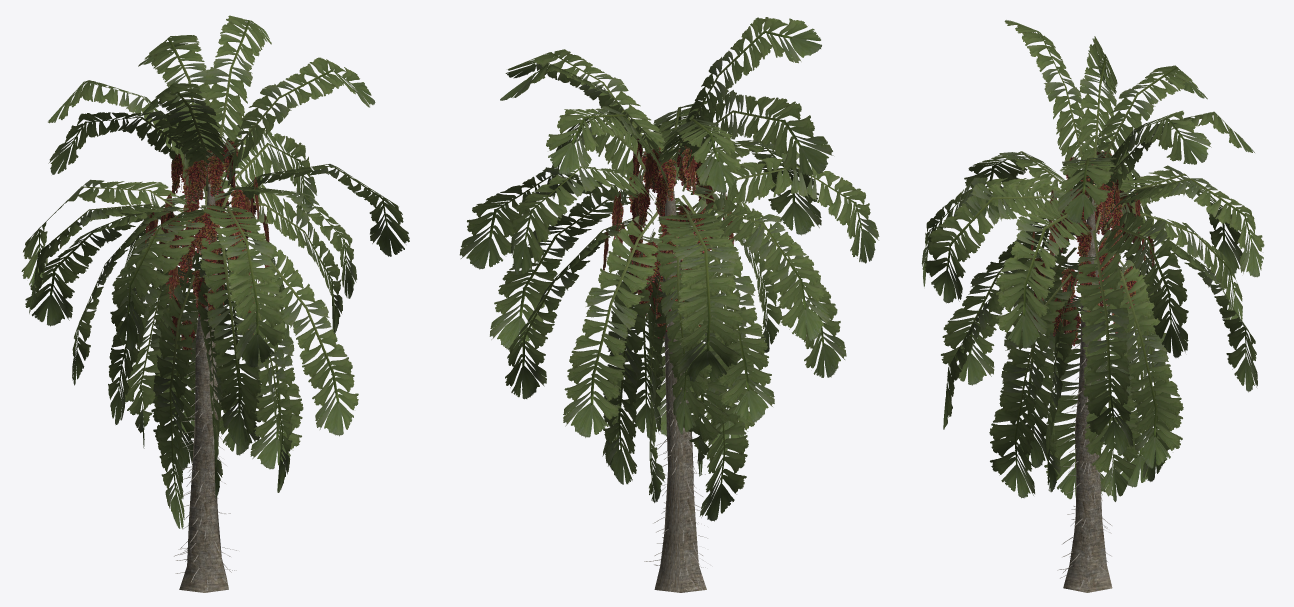
File: Aiphanes_Horrida_Autumn_Young.glb
3 views of the same model, side by side, from view 1: azimuth 30°, elevation 25°; view 2: azimuth 150°, elevation 25°; view 3: azimuth 270°, elevation 25° (orthographic). The views are drawn at different scales.
Visible parts, largest first — view 1: Aiphanes_Horrida_Autumn_Young__LOD3; view 2: Aiphanes_Horrida_Autumn_Young__LOD3; view 3: Aiphanes_Horrida_Autumn_Young__LOD3.
Boxes of the visible parts, box(x1,y1,x2,y2) form: Aiphanes_Horrida_Autumn_Young__LOD3: box(21, 15, 409, 592); Aiphanes_Horrida_Autumn_Young__LOD3: box(459, 17, 879, 592); Aiphanes_Horrida_Autumn_Young__LOD3: box(921, 20, 1264, 592).
Size of the model in its own units: 2.14 by 3.18 by 1.99.
3 materials, 3 textured.
